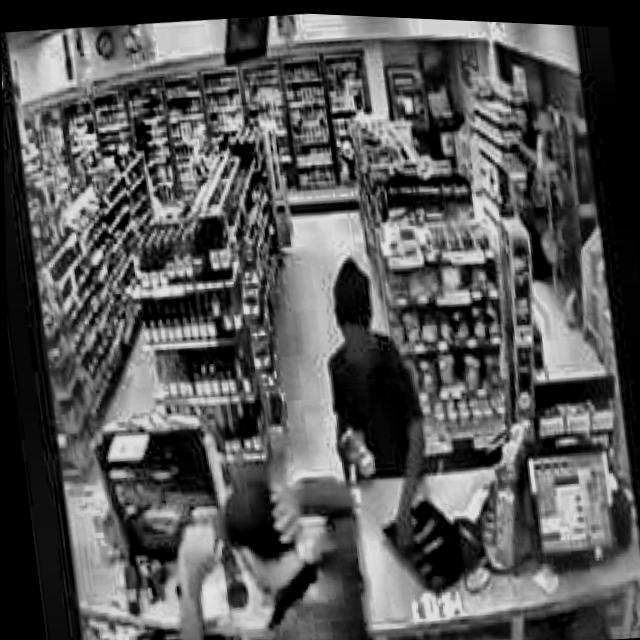robbery: (148, 451, 373, 640), (310, 246, 441, 559)
